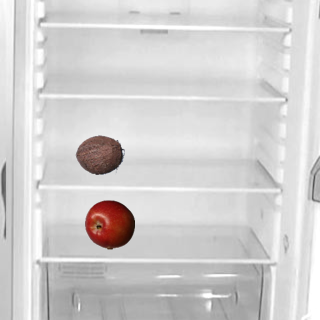Apple Braeburn: (84, 199, 134, 249)
Cocos: (74, 129, 124, 179)
